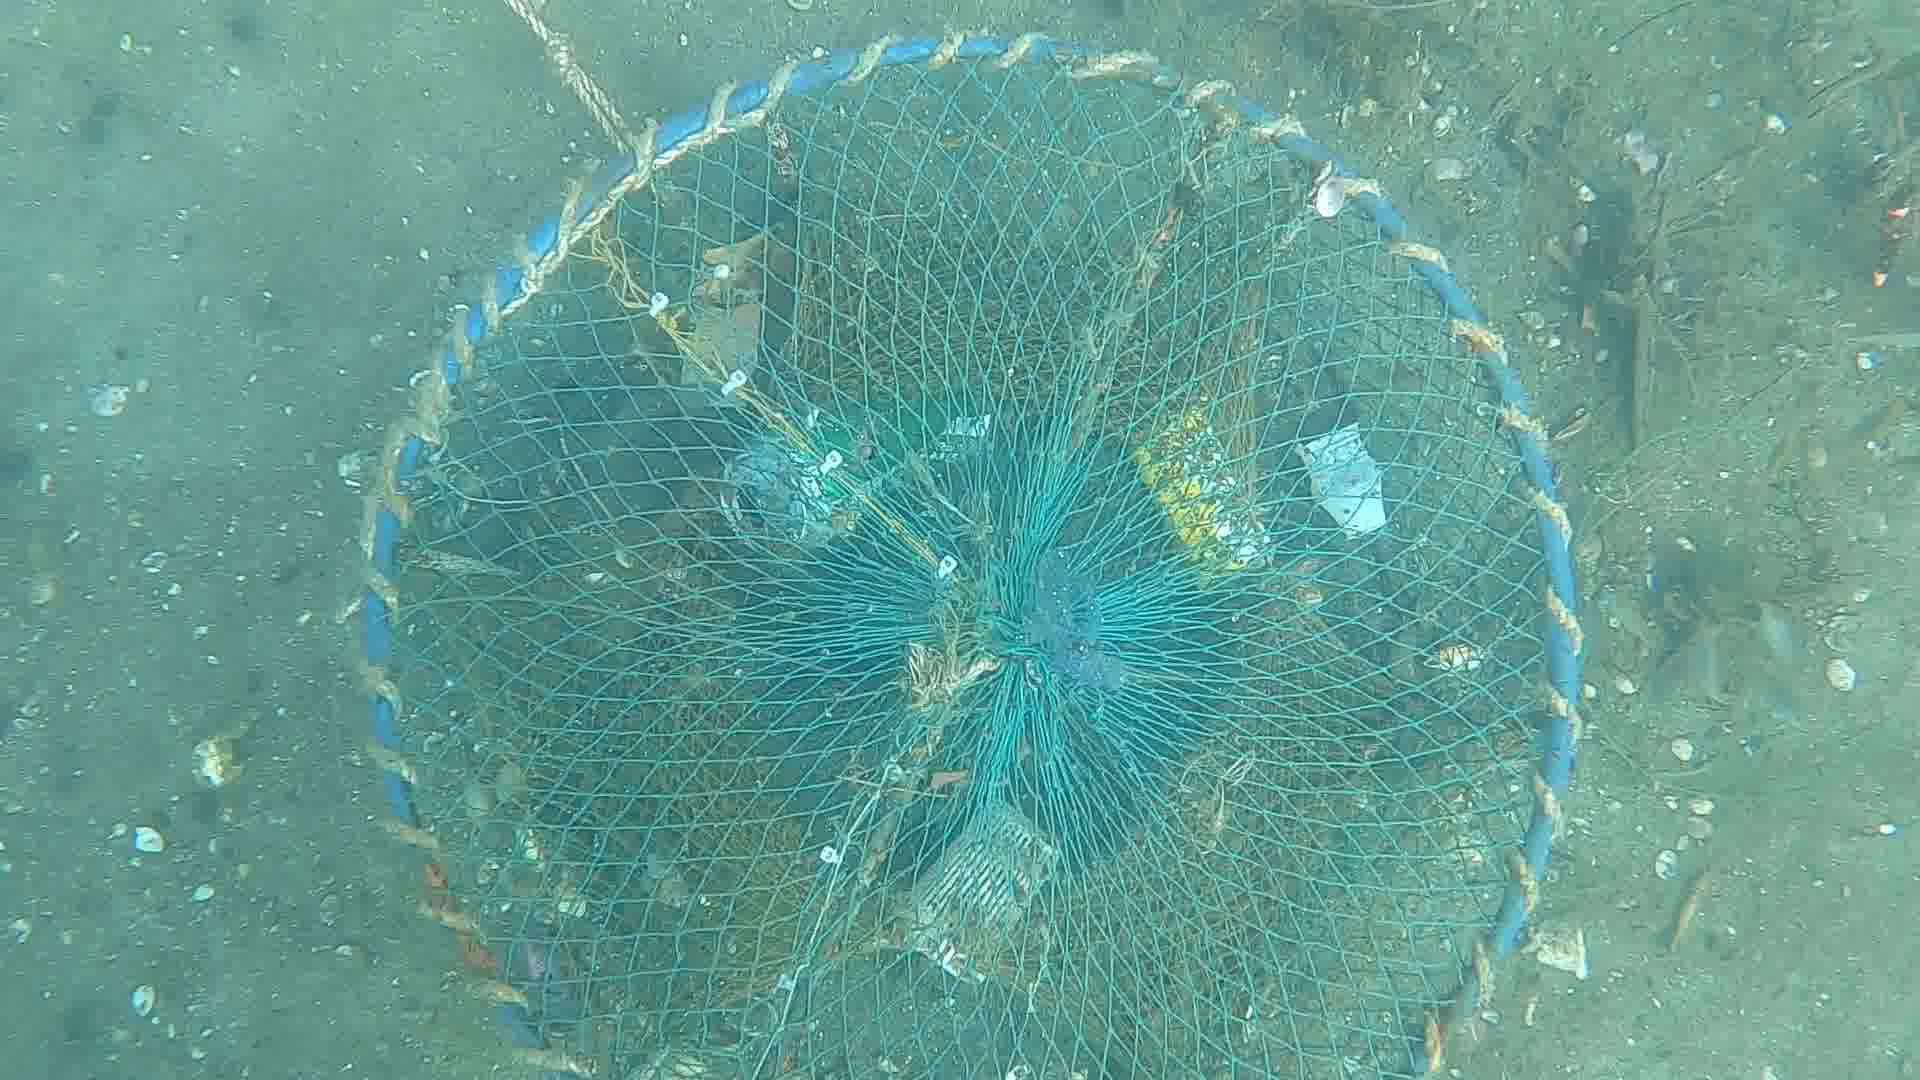bundle of ropes: (492, 1, 647, 157)
circular fish trap: (347, 26, 1589, 1080)
